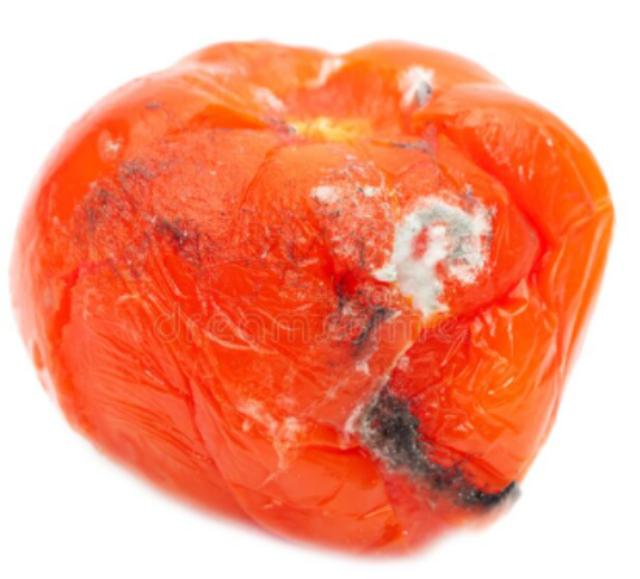defect: (8, 35, 620, 560)
